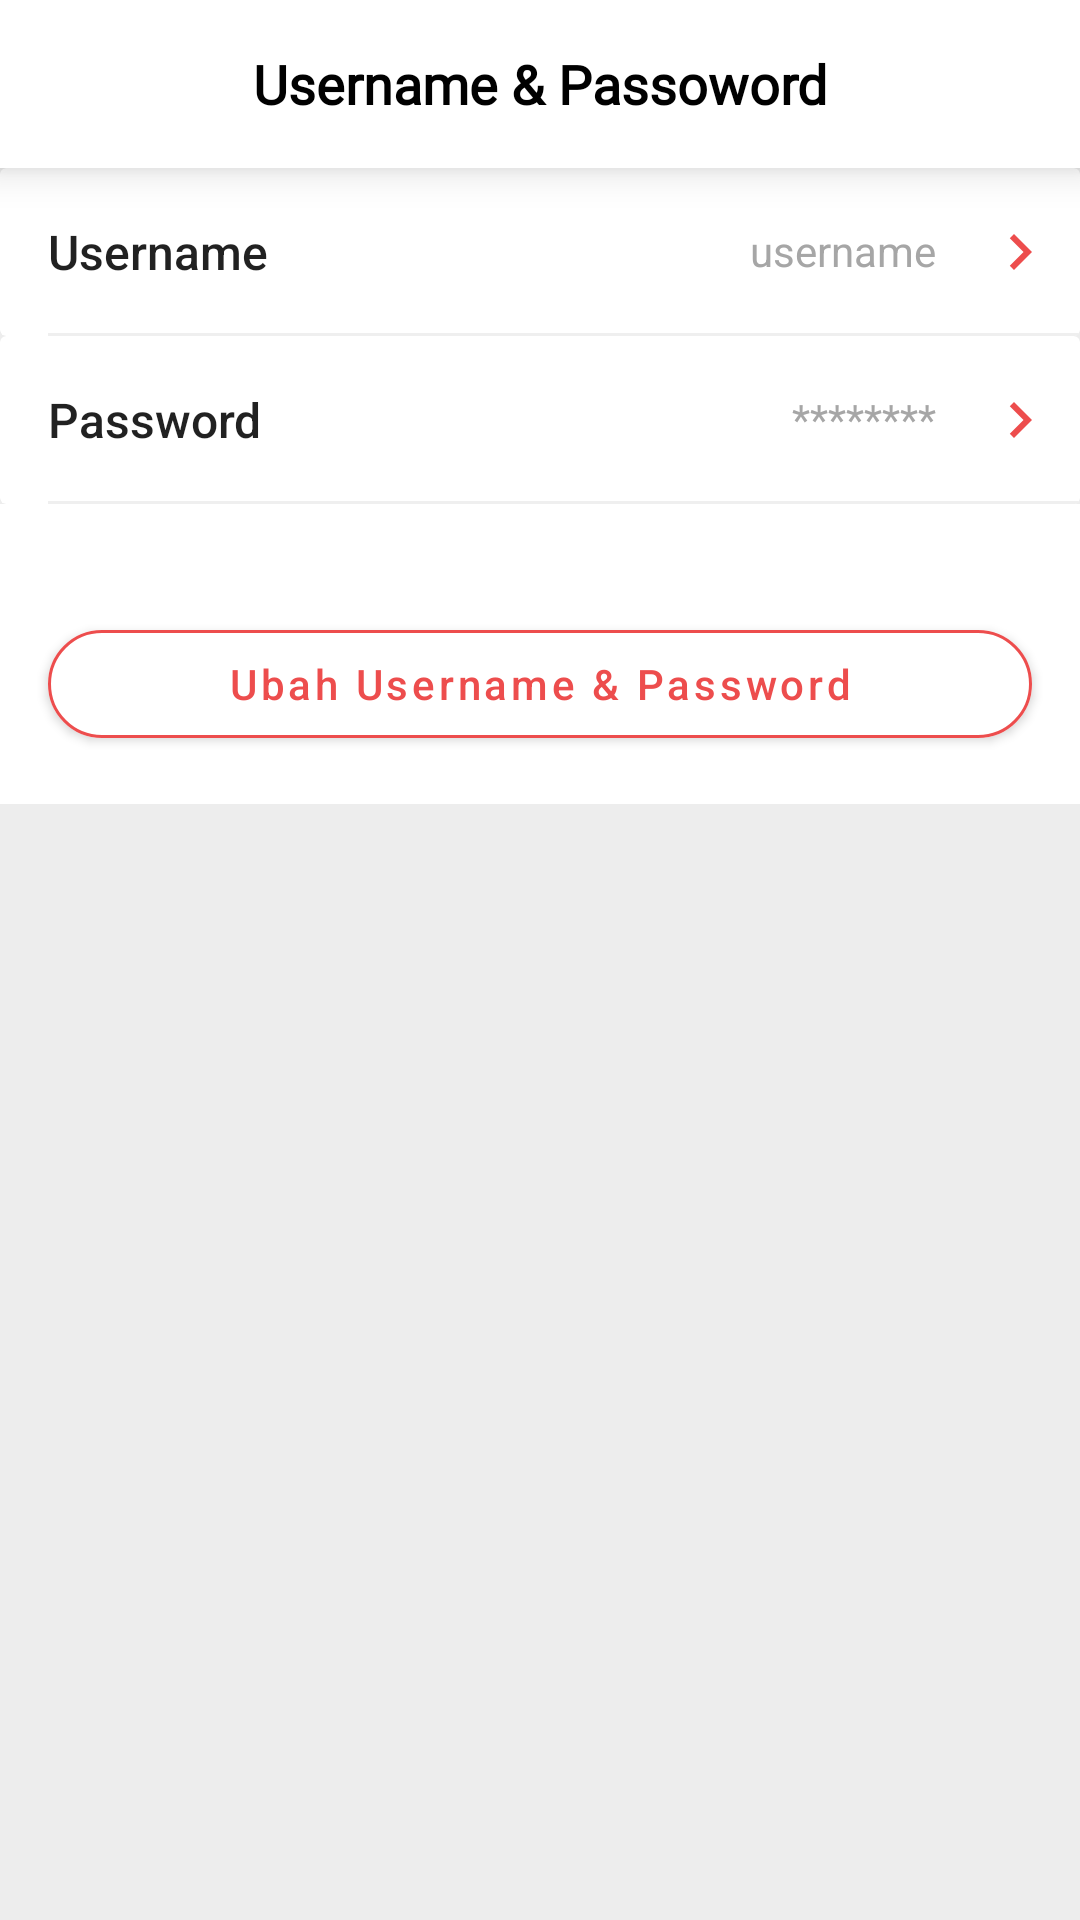

Icon bounding boxes for this 1080w x 1920h phone screenshot, format rect(x1, y1, x2, y2):
next: rect(1010, 234, 1032, 270), rect(1010, 402, 1032, 438)
